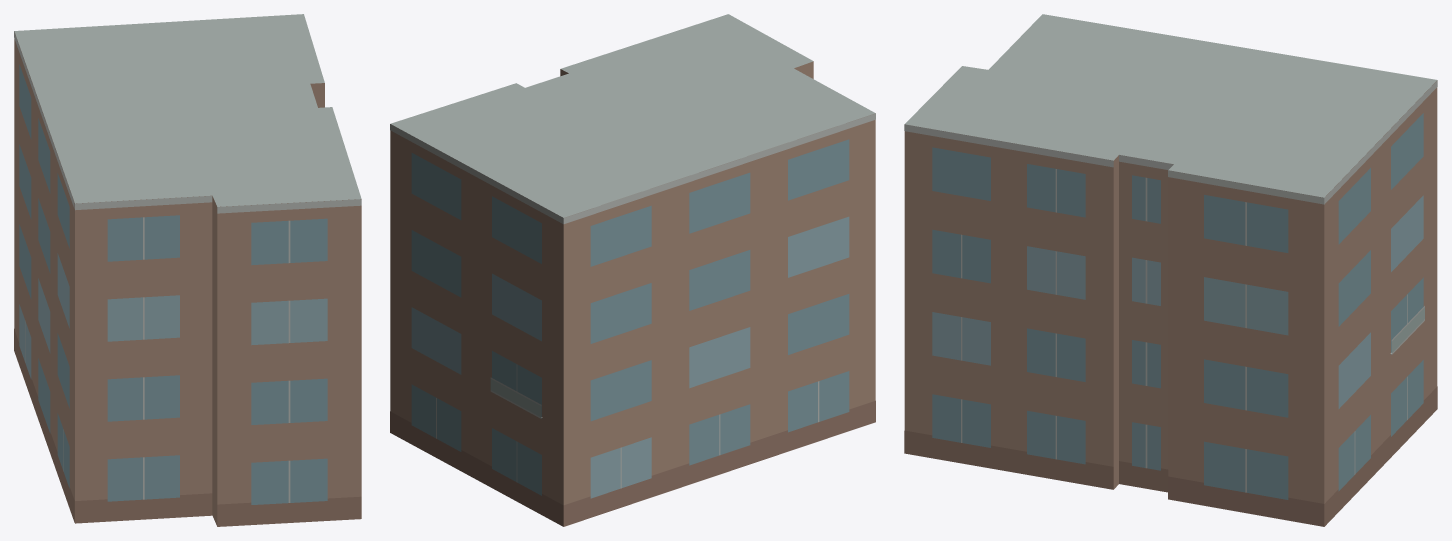
Rendered from survey-upis-32527655.glb.
3 renders of one model, left to right at view 1: azimuth 30°, elevation 25°; view 2: azimuth 150°, elevation 25°; view 3: azimuth 270°, elevation 25°, orthographic. The views are drawn at different scales.
Parts seen in each view (by area): view 1: survey-upis-32527655.tmp; view 2: survey-upis-32527655.tmp; view 3: survey-upis-32527655.tmp.
Boxes of the visible parts, x1=… form: survey-upis-32527655.tmp: x1=14, y1=14, x2=361, y2=526; survey-upis-32527655.tmp: x1=390, y1=14, x2=875, y2=526; survey-upis-32527655.tmp: x1=904, y1=14, x2=1437, y2=526.
Bounding box in the file's own units: 14.01 × 11.7 × 17.18.
